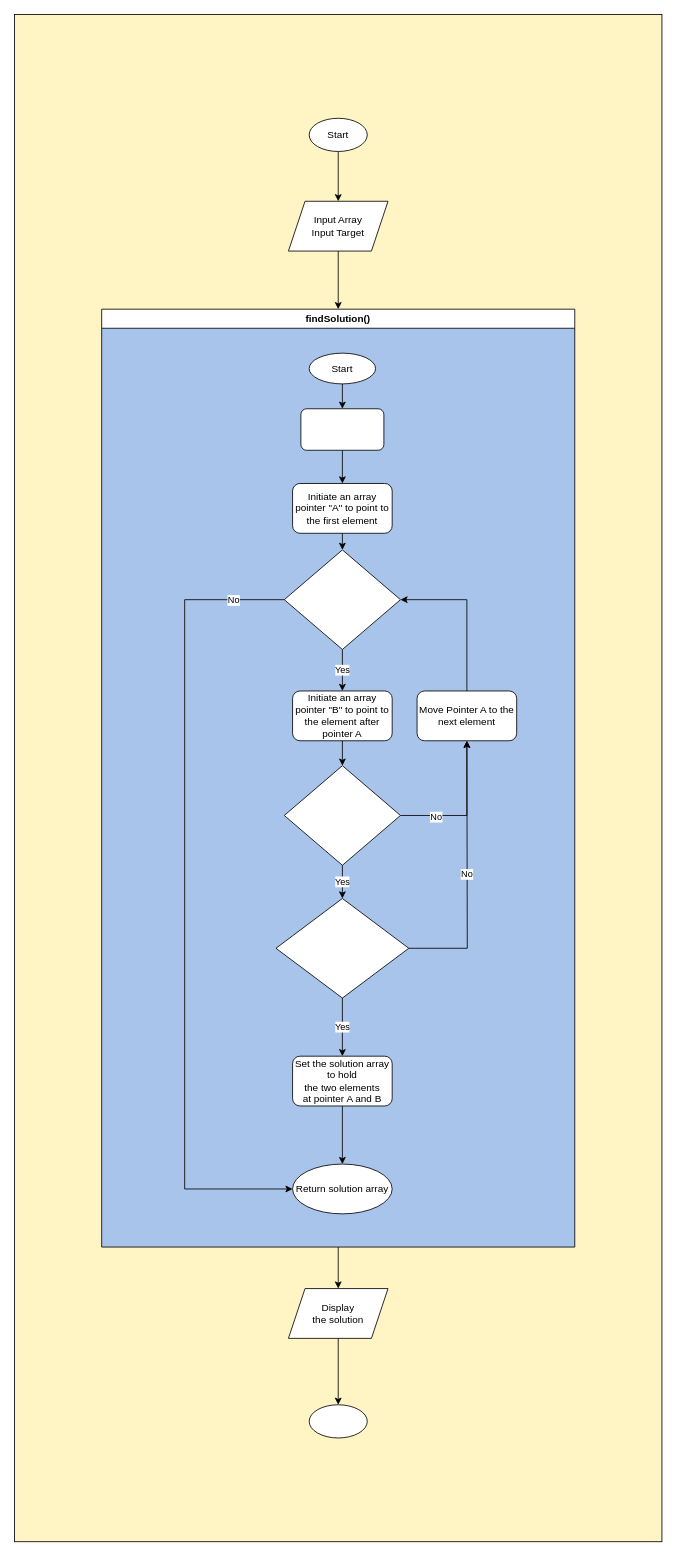
The diagram is 676 pixels wide and 1556 high, and some of its shapes have lost their labels. Each missing label, with the centre of its shape:
End: (337,1421)
Initiate an empty array "solution" of size 2: (342,429)
Is pointer A within the bounds of the array?: (341,599)
Is pointer B within the bounds of the array?: (341,815)
Is sum of elements at both the pointer equal to the target?: (342,948)
